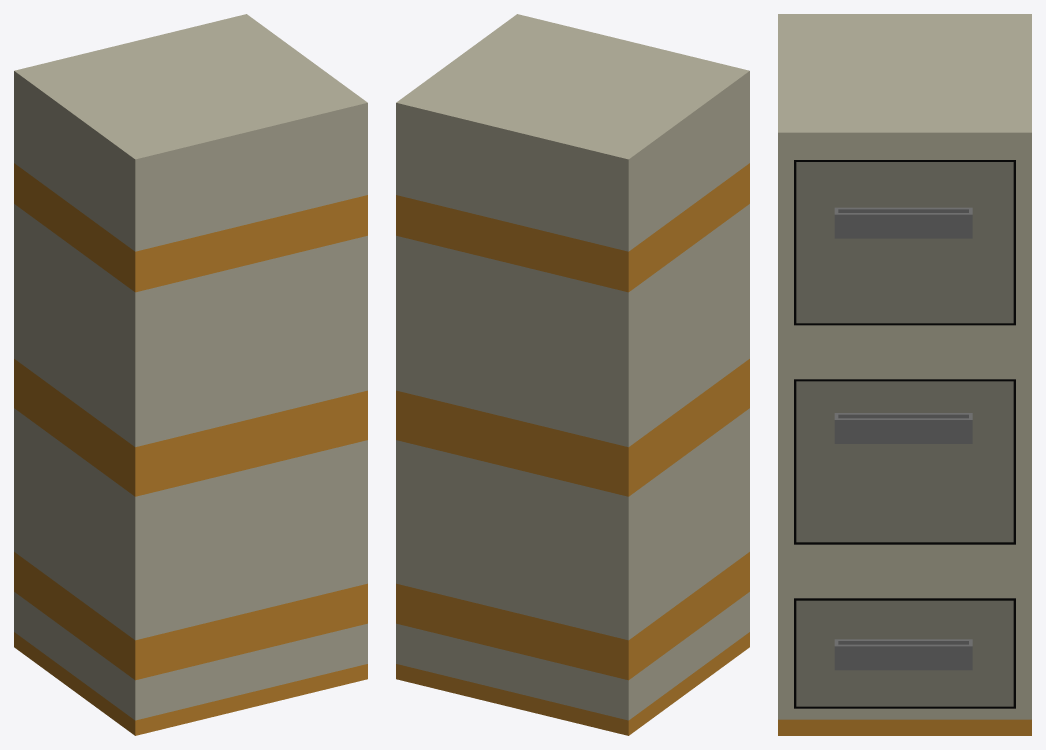
Rendered from FilingCabinentSmall.glb.
3 renders of one model, left to right at view 1: azimuth 30°, elevation 25°; view 2: azimuth 150°, elevation 25°; view 3: azimuth 270°, elevation 25°, orthographic. The views are drawn at different scales.
Visible parts, largest first — view 1: Cube.002; view 2: Cube.002; view 3: Cube.002.
Boxes of the visible parts, x1=… form: Cube.002: x1=14, y1=14, x2=367, y2=735; Cube.002: x1=396, y1=14, x2=749, y2=735; Cube.002: x1=778, y1=14, x2=1031, y2=735.
Size of the model in its own units: 0.8227 by 1.84 by 0.7021.
